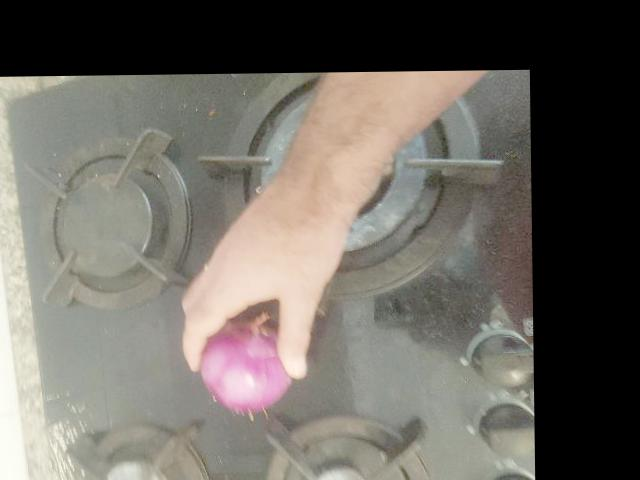onion: (196, 317, 287, 399)
